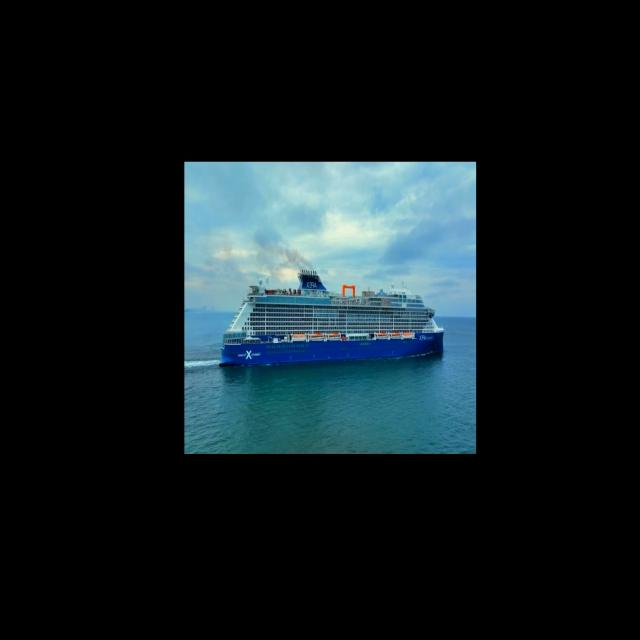ship: (223, 268, 445, 363)
